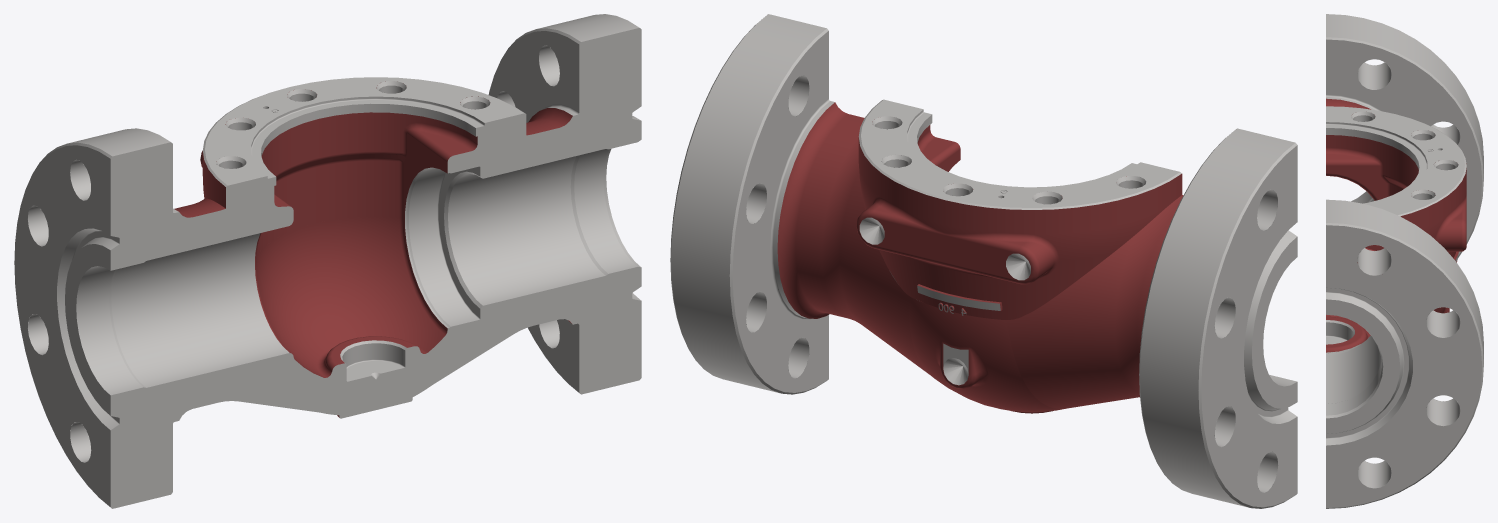
Rendered from X-238217-02_BODY_FB_RTJ.glb.
3 views of the same model, side by side, from view 1: azimuth 30°, elevation 25°; view 2: azimuth 150°, elevation 25°; view 3: azimuth 270°, elevation 25° (orthographic). The views are drawn at different scales.
Parts seen in each view (by area): view 1: Solid1; view 2: Solid1; view 3: Solid1.
Boxes of the visible parts, x1,y1,x2,y2 form: Solid1: (14, 14, 641, 508); Solid1: (670, 14, 1297, 508); Solid1: (1326, 14, 1483, 508).
Size of the model in its own units: 0.4604 by 0.2921 by 0.146.
